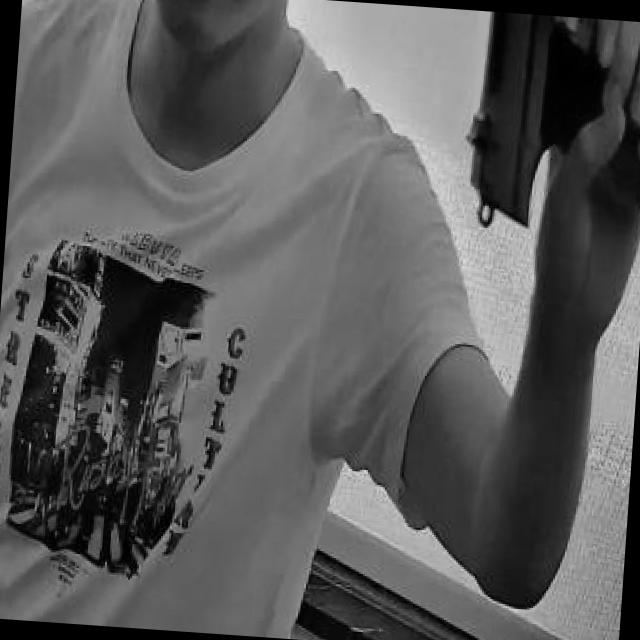Guns: (451, 9, 640, 236)
